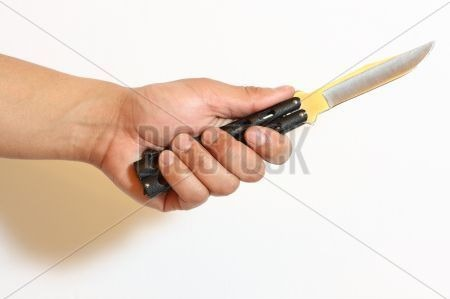knife: (218, 33, 442, 163)
